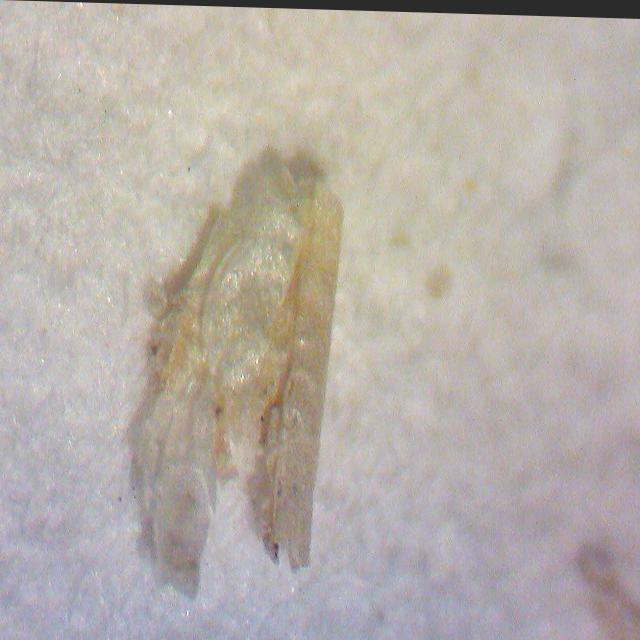microplastic: (128, 146, 344, 603)
